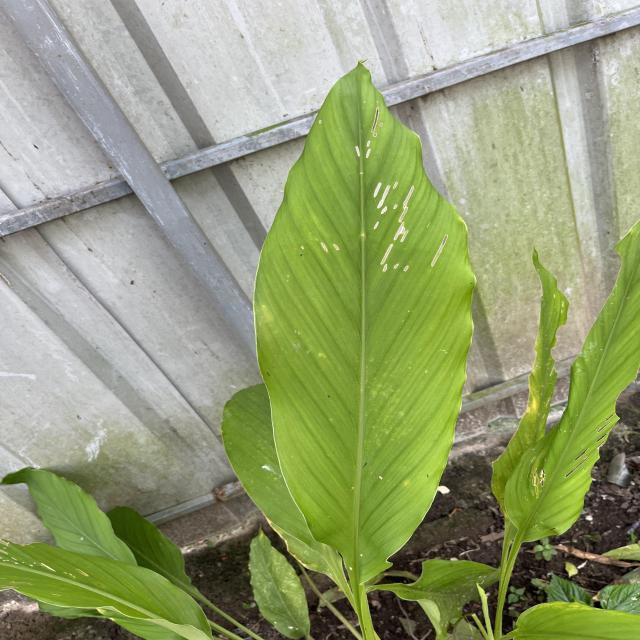Curcuma longa: (248, 53, 482, 586)
